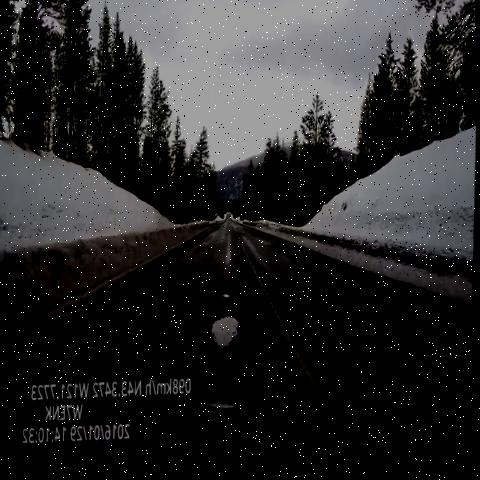pothole: (202, 306, 248, 363), (214, 280, 235, 306)
